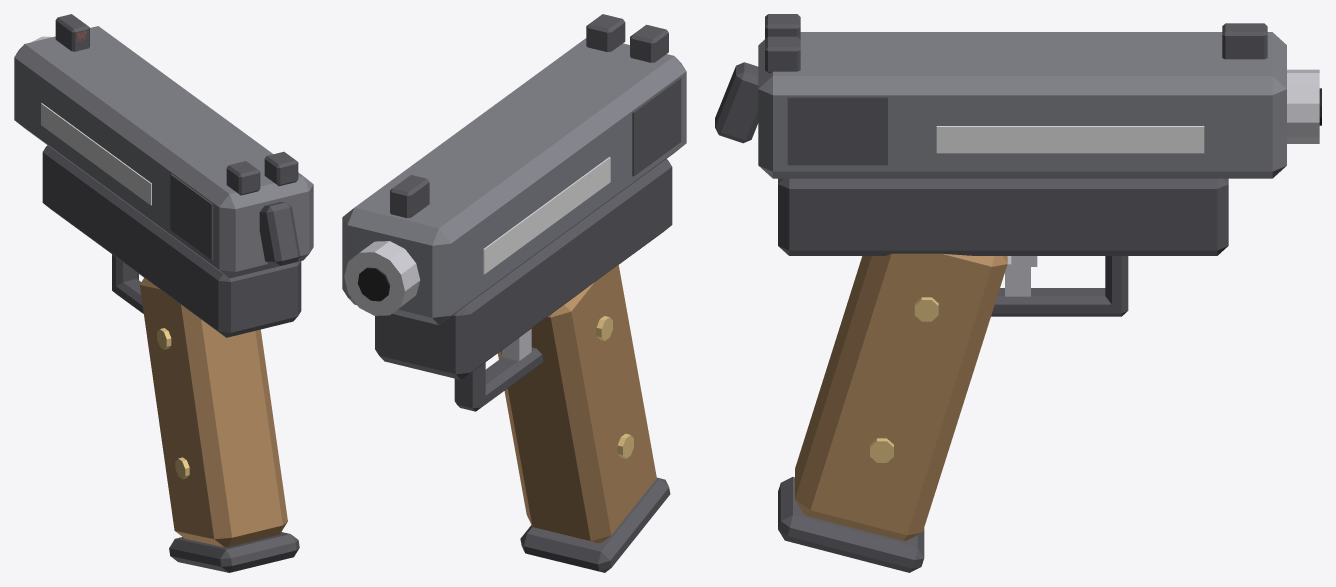
File: Pistol.fbx
The picture shows the model from 3 angles, left to right: view 1: azimuth 30°, elevation 25°; view 2: azimuth 150°, elevation 25°; view 3: azimuth 270°, elevation 25°; orthographic projection. The views are drawn at different scales.
Parts seen in each view (by area): view 1: PistolMesh; view 2: PistolMesh, PistolTrigger; view 3: PistolMesh, PistolTrigger.
Boxes of the visible parts, x1,y1,x2,y2 form: PistolMesh: (14, 14, 313, 572); PistolMesh: (342, 14, 686, 572); PistolTrigger: (502, 329, 531, 360); PistolMesh: (715, 14, 1321, 572); PistolTrigger: (1005, 256, 1037, 296).
Bounding box in the file's own units: 0.0846 × 0.3581 × 0.3742.
2 materials, 1 textured.
